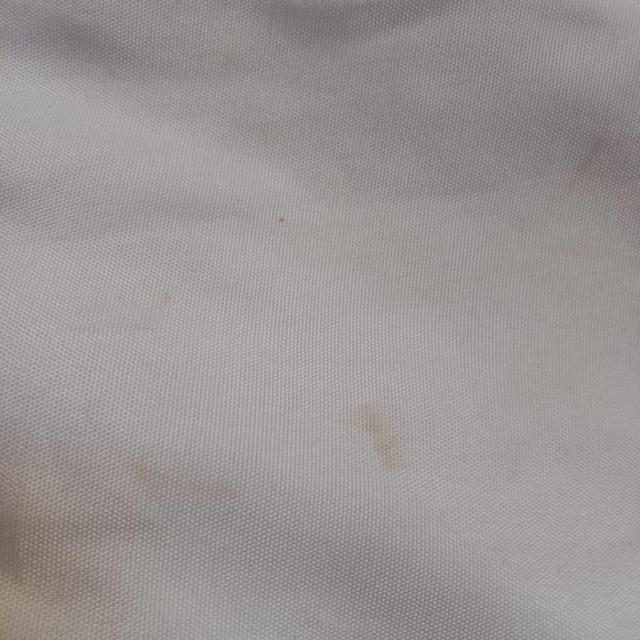stain: (0, 491, 107, 603), (348, 394, 422, 480)
